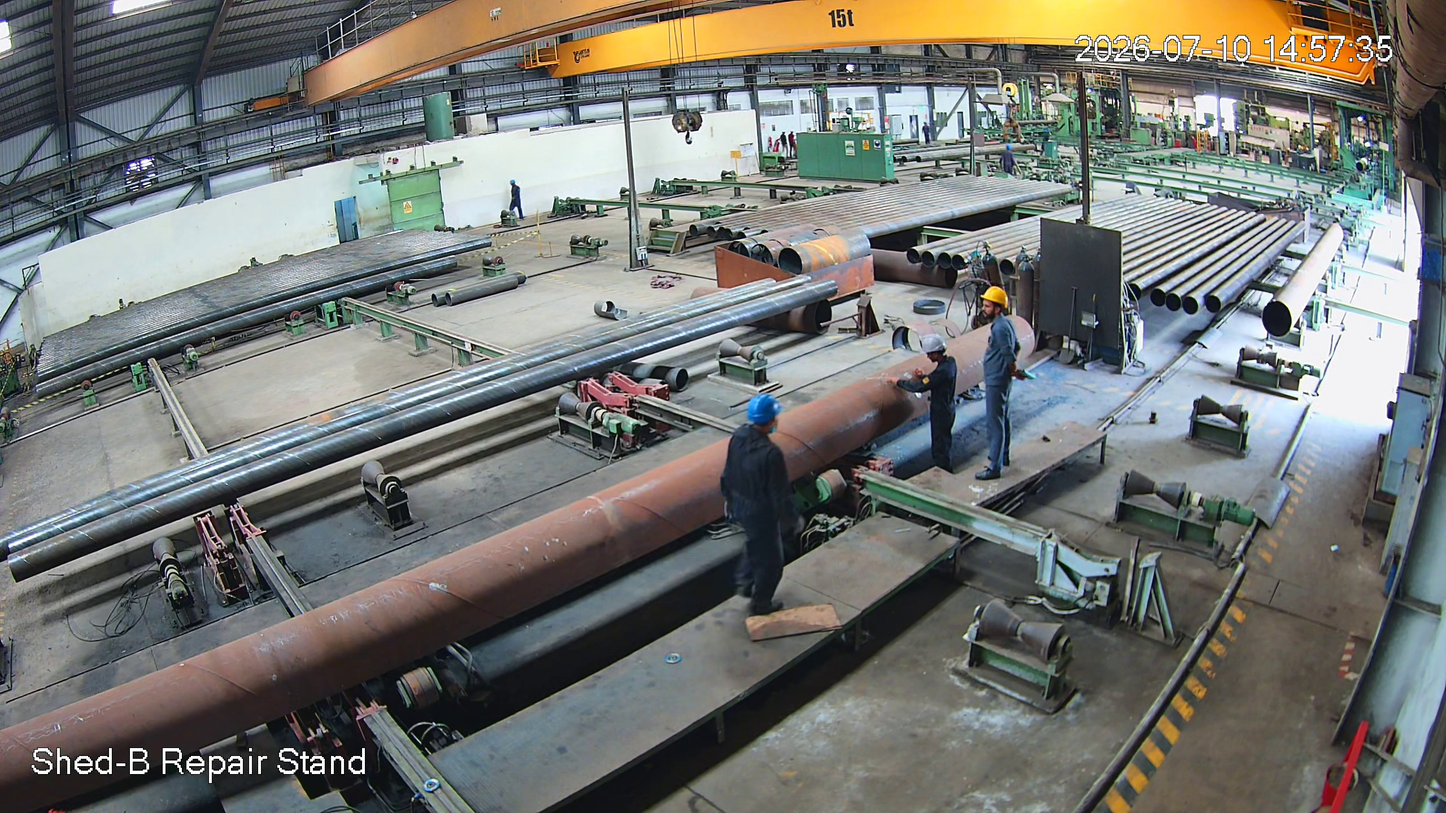Helmet: (737, 387, 799, 458), (976, 279, 1022, 335), (917, 328, 948, 373)
Person: (727, 390, 791, 626), (973, 282, 1033, 483), (912, 335, 960, 479)
